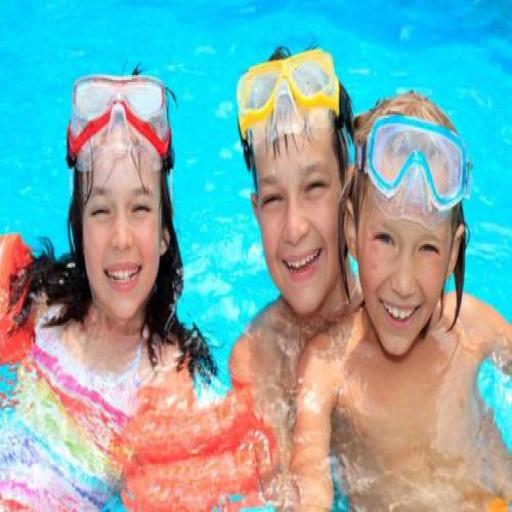swimming: (0, 67, 222, 510), (287, 87, 511, 510)
